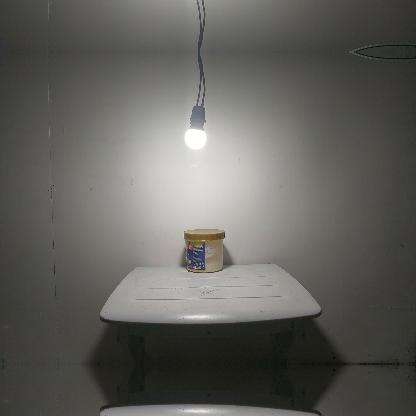Lady-s-Choice: (184, 228, 224, 272)
